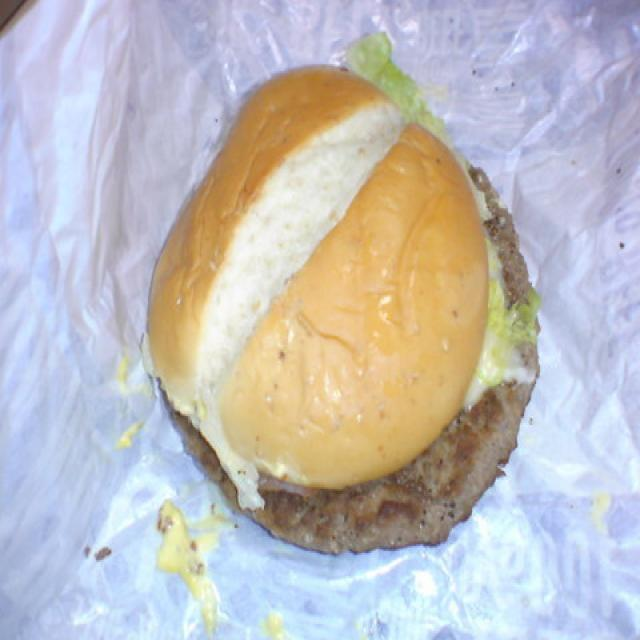Hamburger: (160, 86, 527, 536)
